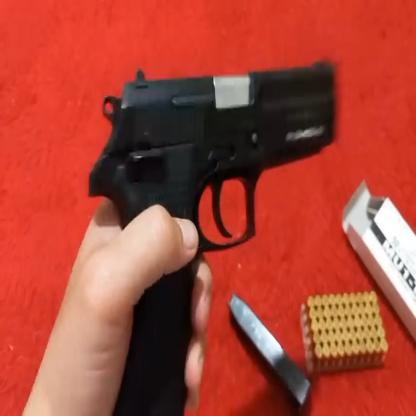handgun: (116, 49, 343, 211)
